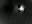person: (20, 5, 27, 15)
